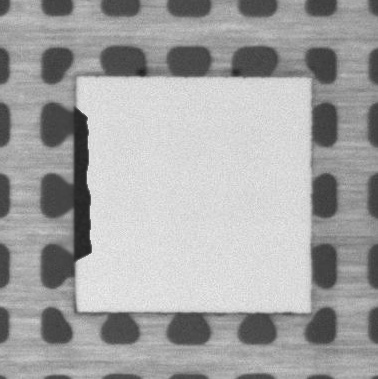DIE_BROKEN: (71, 107, 94, 264)
